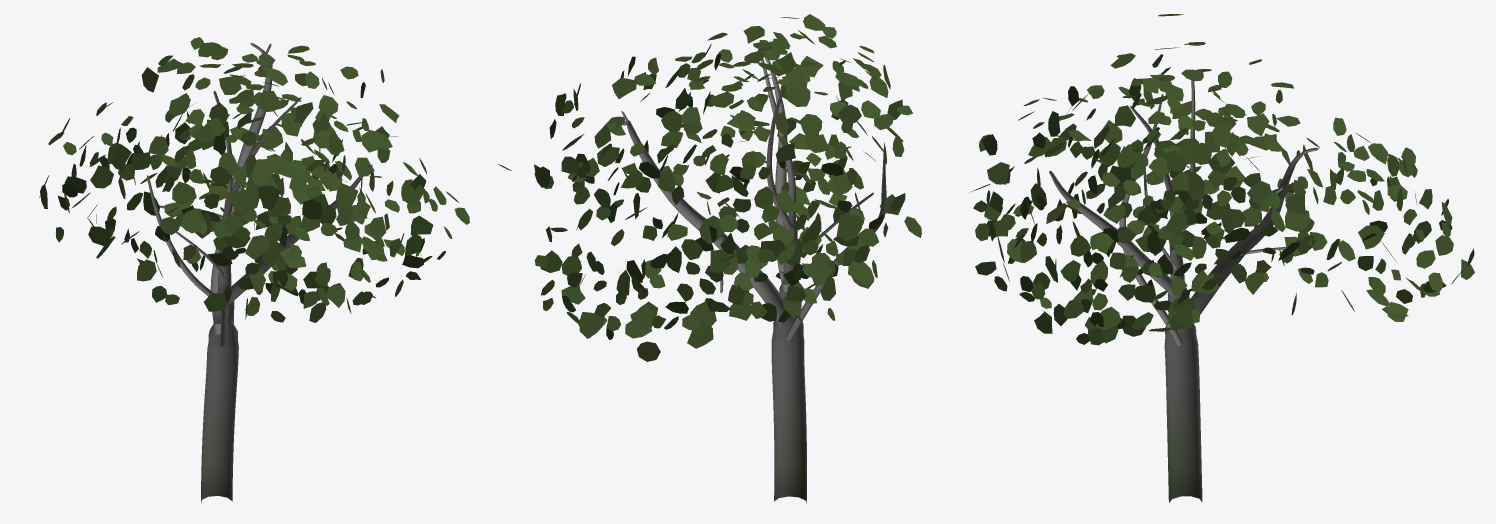
The model's file is SM_TreeFar_beech_2.glb.
3 renders of one model, left to right at view 1: azimuth 30°, elevation 25°; view 2: azimuth 150°, elevation 25°; view 3: azimuth 270°, elevation 25°, orthographic. The views are drawn at different scales.
Parts seen in each view (by area): view 1: SM_TreeFar_beech_2; view 2: SM_TreeFar_beech_2; view 3: SM_TreeFar_beech_2.
Boxes of the visible parts, <box> form: SM_TreeFar_beech_2: <box>39,37,469,502</box>; SM_TreeFar_beech_2: <box>498,14,921,503</box>; SM_TreeFar_beech_2: <box>970,14,1474,502</box>.
Size of the model in its own units: 12.62 by 17.19 by 16.51.
